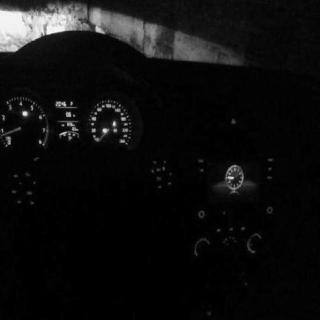other: (195, 226, 263, 256)
